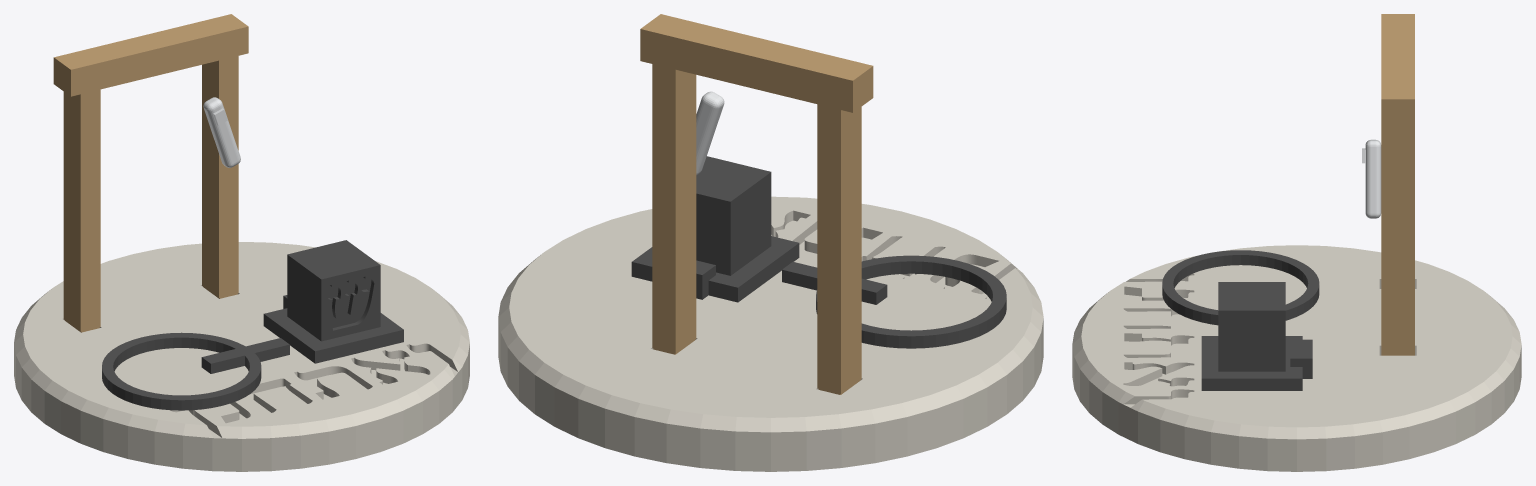
The model's file is vaetchanan.glb.
3 renders of one model, left to right at view 1: azimuth 30°, elevation 25°; view 2: azimuth 150°, elevation 25°; view 3: azimuth 270°, elevation 25°, orthographic. The views are drawn at different scales.
Parts seen in each view (by area): view 1: stage, doorway, tefillin, strap, mezuzah; view 2: stage, doorway, tefillin, strap, mezuzah; view 3: stage, doorway, tefillin, strap, mezuzah.
Boxes of the visible parts, x1,y1,x2,y2 form: stage: (14, 242, 469, 471); doorway: (53, 14, 248, 332); tefillin: (263, 240, 403, 363); strap: (102, 332, 289, 410); mezuzah: (203, 97, 240, 167); stage: (498, 196, 1043, 471); doorway: (640, 14, 873, 394); tefillin: (631, 156, 799, 302); strap: (782, 255, 1006, 348); mezuzah: (696, 91, 724, 174); stage: (1072, 245, 1521, 471); doorway: (1381, 14, 1414, 355); tefillin: (1201, 282, 1312, 390); strap: (1162, 250, 1319, 325); mezuzah: (1362, 139, 1381, 218).
Bounding box in the file's own units: 40 × 29.6 × 40.
